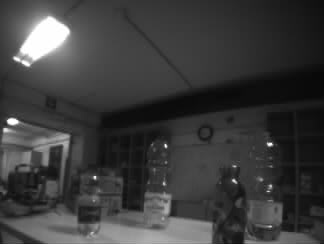Bottle: (250, 133, 283, 237), (212, 168, 247, 244), (145, 137, 170, 226), (78, 164, 100, 232)
